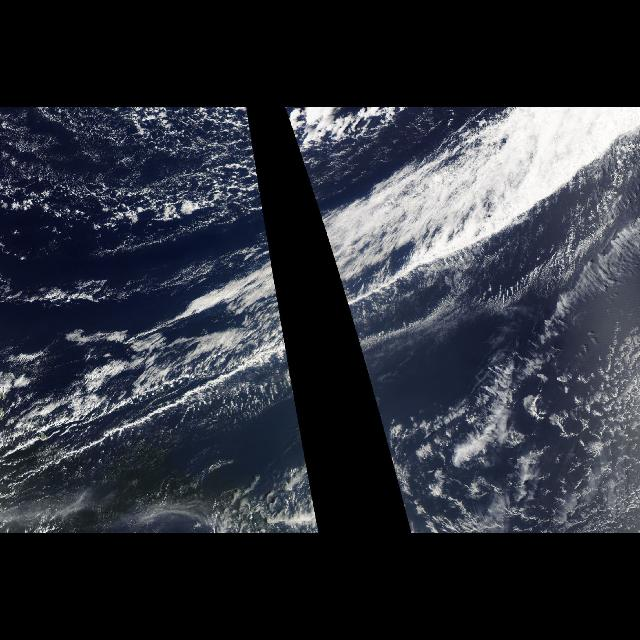Fish: (285, 116, 639, 370), (126, 116, 290, 370)
Gravel: (0, 107, 270, 255), (433, 352, 635, 534)
